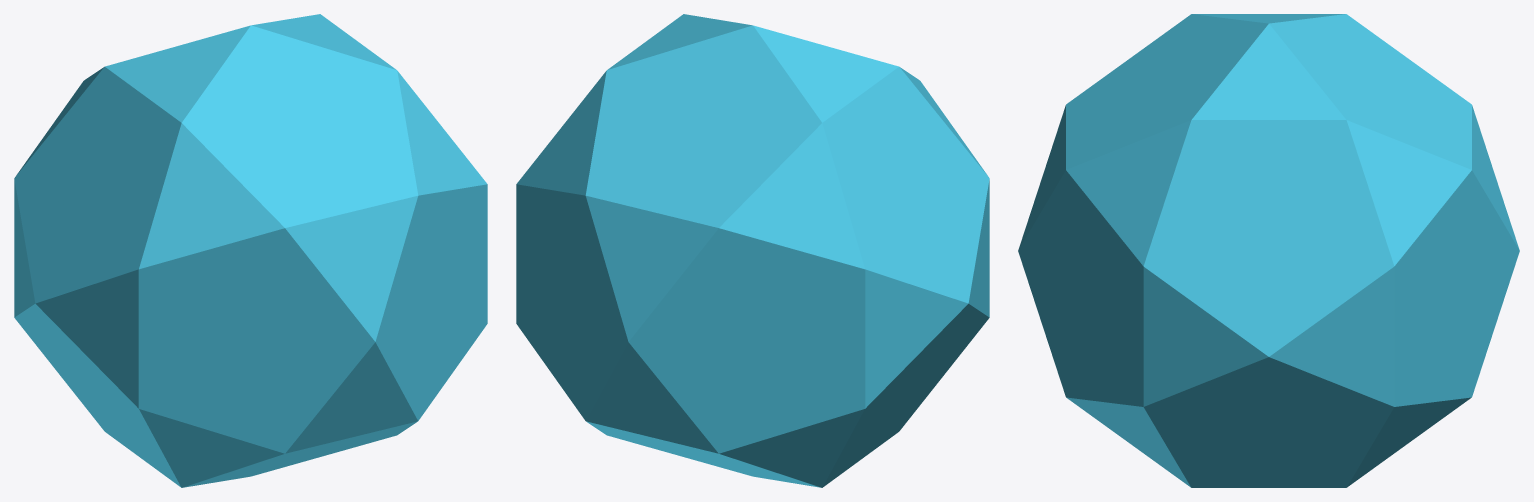
The model's file is fractalicosidodecahedron0.glb.
3 views of the same model, side by side, from view 1: azimuth 30°, elevation 25°; view 2: azimuth 150°, elevation 25°; view 3: azimuth 270°, elevation 25° (orthographic).
Bounding box in the file's own units: 11.3 × 11.3 × 11.3.
